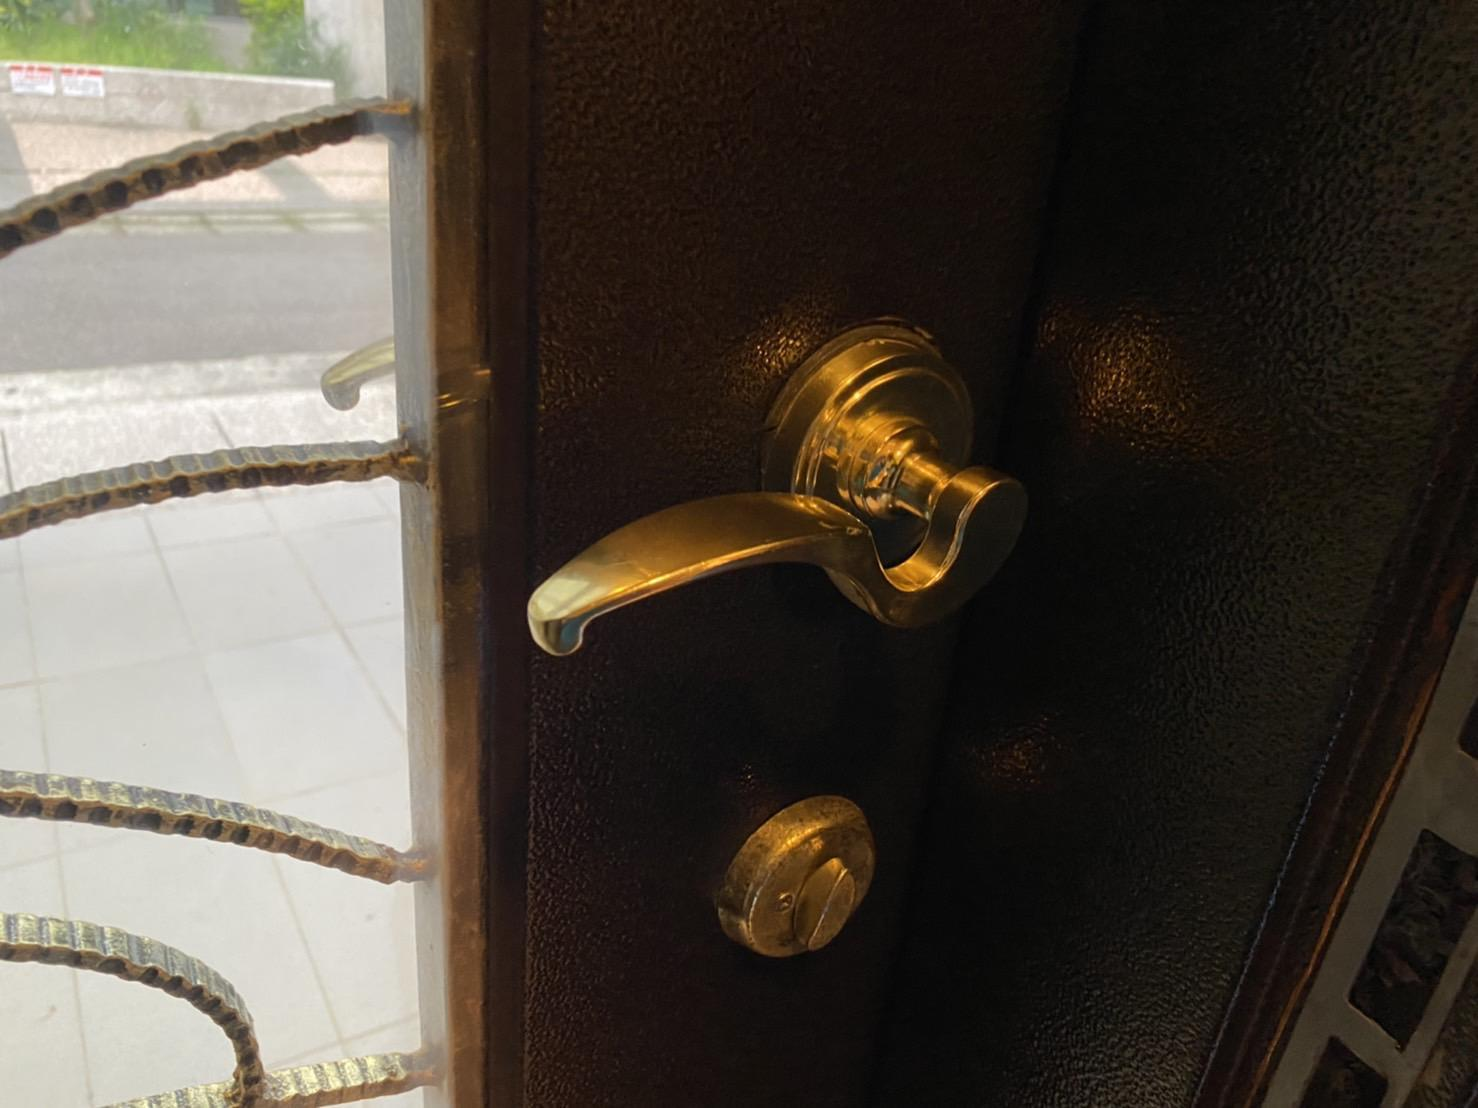doorhandle: (446, 346, 1161, 674)
